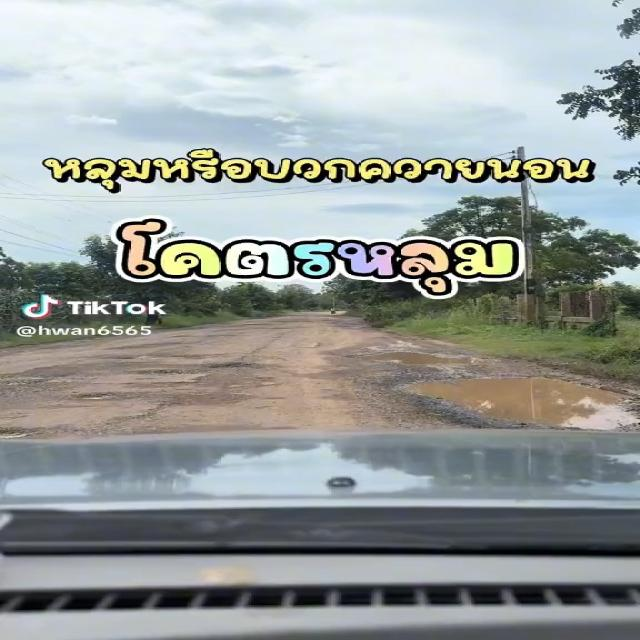Poth-hole: (102, 396, 211, 440), (614, 458, 638, 461)
